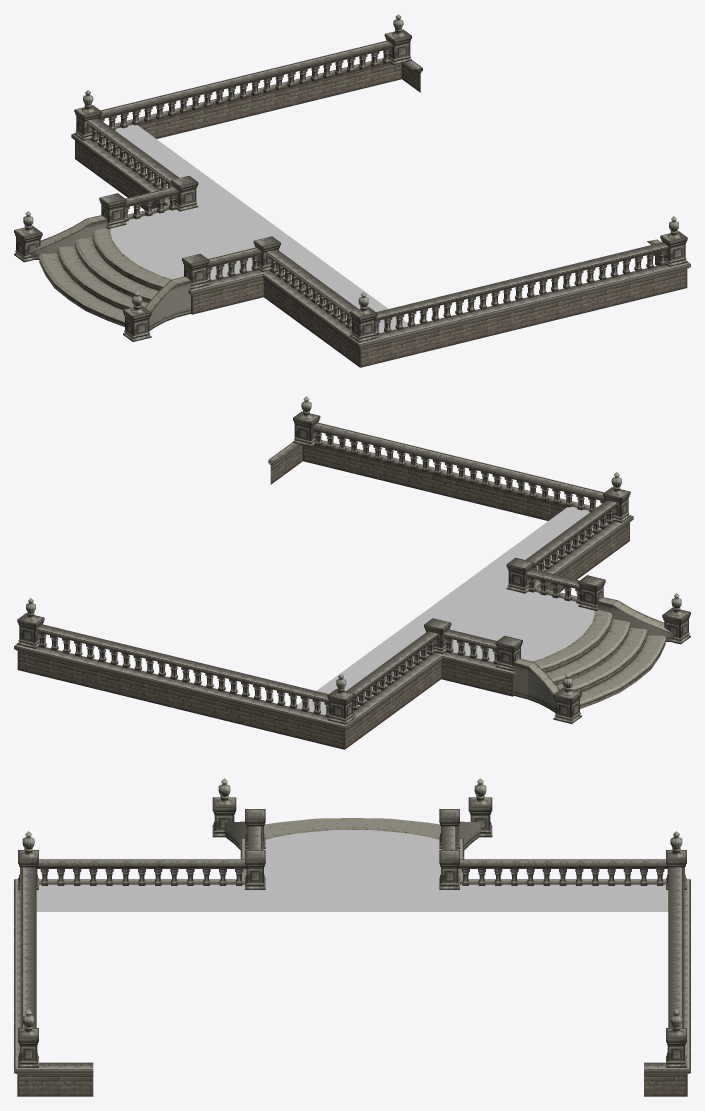
Rendered from EnvBdgMD_Mansion_Arlond_A_Base.FBX.
The picture shows the model from 3 angles, top to bottom: view 1: azimuth 30°, elevation 25°; view 2: azimuth 150°, elevation 25°; view 3: azimuth 270°, elevation 25°; orthographic projection. The views are drawn at different scales.
Parts seen in each view (by area): view 1: EnvBdgMD_Mansion_Arlond_A_Base; view 2: EnvBdgMD_Mansion_Arlond_A_Base; view 3: EnvBdgMD_Mansion_Arlond_A_Base.
Part boxes in pixels (left/top/right/bottom): EnvBdgMD_Mansion_Arlond_A_Base: left=14, top=14, right=690, bottom=367; EnvBdgMD_Mansion_Arlond_A_Base: left=14, top=396, right=690, bottom=749; EnvBdgMD_Mansion_Arlond_A_Base: left=14, top=778, right=690, bottom=1096.
Size of the model in its own units: 2004 by 283 by 2090.
